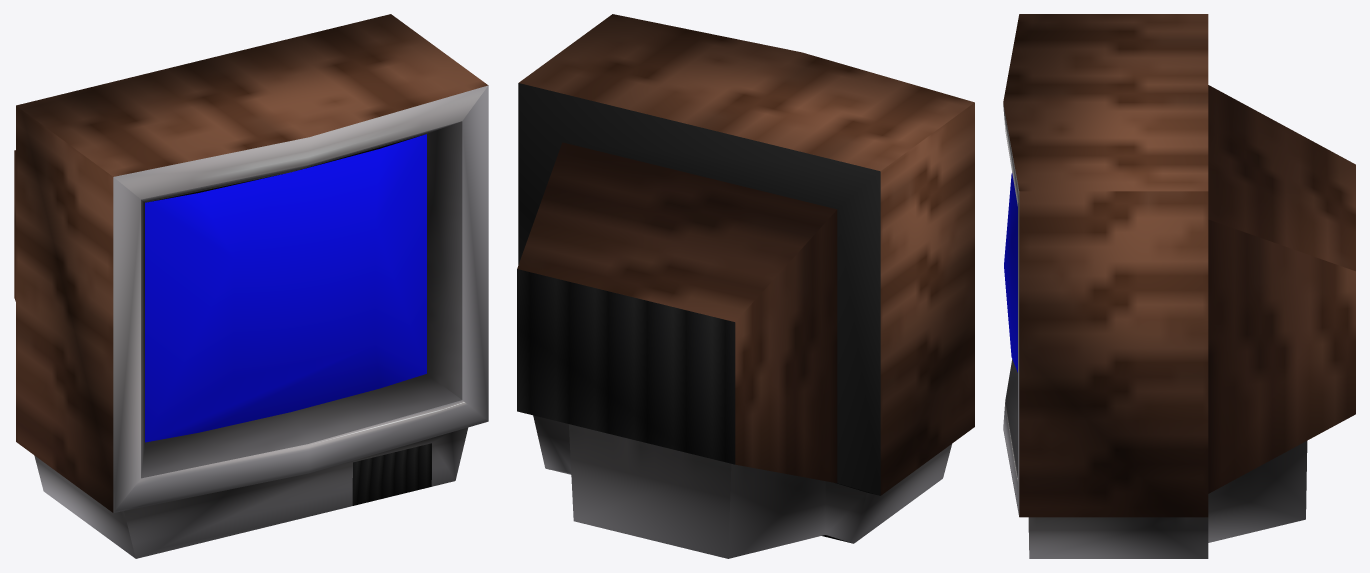
3 renders of one model, left to right at view 1: azimuth 30°, elevation 25°; view 2: azimuth 150°, elevation 25°; view 3: azimuth 270°, elevation 25°, orthographic. The views are drawn at different scales.
Visible parts, largest first — view 1: TV.002, TV.003; view 2: TV.002; view 3: TV.002, TV.003.
Boxes of the visible parts, <box> form: TV.002: <box>14,14,488,558</box>; TV.003: <box>145,134,426,442</box>; TV.002: <box>517,14,974,558</box>; TV.002: <box>1003,14,1355,558</box>; TV.003: <box>1004,173,1017,372</box>.
Bounding box in the file's own units: 3.34 × 3.34 × 2.8.
Materials: 2 (1 with a texture image).
